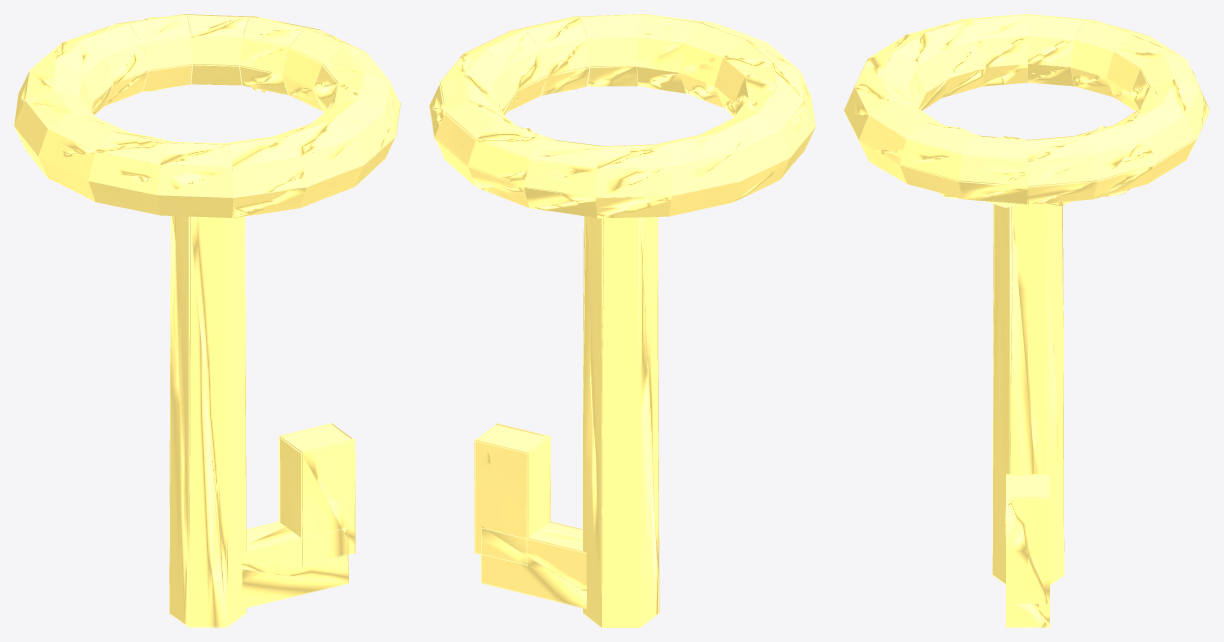
The model's file is key.glb.
The picture shows the model from 3 angles, left to right: view 1: azimuth 30°, elevation 25°; view 2: azimuth 150°, elevation 25°; view 3: azimuth 270°, elevation 25°; orthographic projection. The views are drawn at different scales.
Visible parts, largest first — view 1: KeyRing; view 2: KeyRing; view 3: KeyRing.
Boxes of the visible parts, box(x1,y1,x2,y2) form: KeyRing: box(14, 14, 400, 627); KeyRing: box(429, 14, 815, 627); KeyRing: box(844, 14, 1209, 627).
Bounding box in the file's own units: 0.4964 × 0.7518 × 0.4991.
